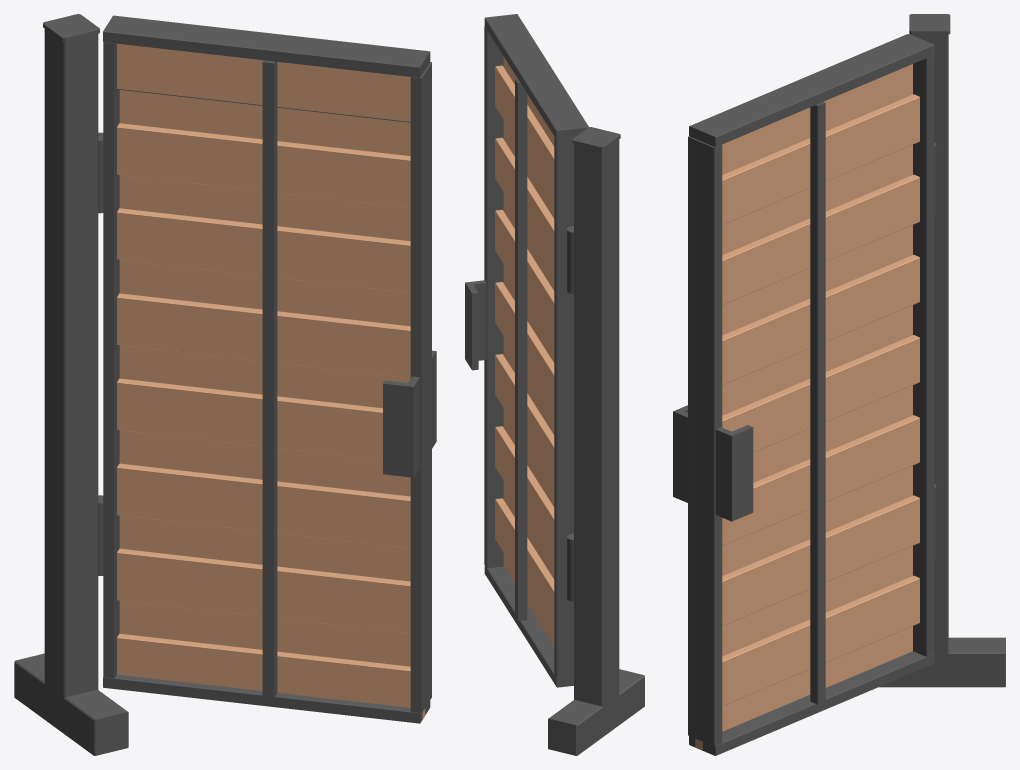
The model's file is mod_wicket_003.glb.
The picture shows the model from 3 angles, left to right: view 1: azimuth 30°, elevation 25°; view 2: azimuth 150°, elevation 25°; view 3: azimuth 270°, elevation 25°; orthographic projection. The views are drawn at different scales.
Visible parts, largest first — view 1: door, fence_post; view 2: door, fence_post; view 3: door, fence_post.
Part boxes in pixels (<box>): door: <box>98,15,436,723</box>; fence_post: <box>14,14,128,755</box>; door: <box>465,14,588,687</box>; fence_post: <box>548,127,644,755</box>; door: <box>673,34,936,755</box>; fence_post: <box>879,14,1005,687</box>.
Bounding box in the file's own units: 0.8047 × 1.92 × 0.8817.
